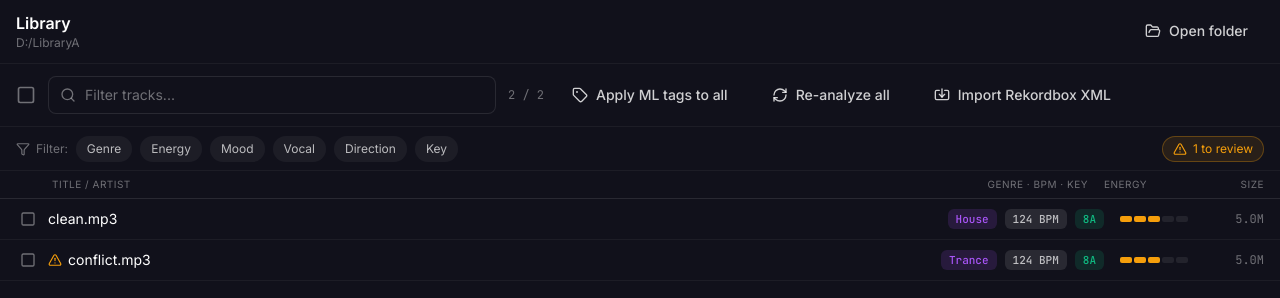
Test: <LibraryBrowser /> — review (genre conflict) filter › counts conflicting tracks and narrows to them when toggled
Expected: the text "2 / 2" is shown, [508, 87, 544, 103]
// Engaging it narrows the list to just the conflicting track.
Click the button "1 to review": (1213, 148) [1162, 136, 1264, 162]
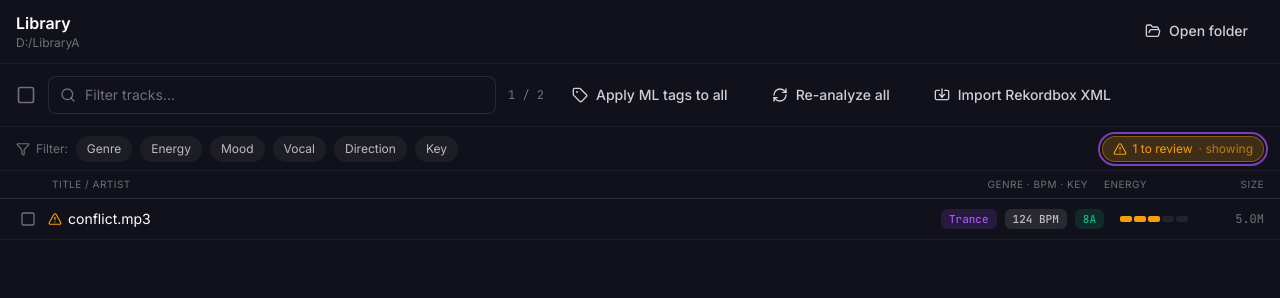
Expected: the text "1 / 2" is shown, [508, 87, 544, 103]
